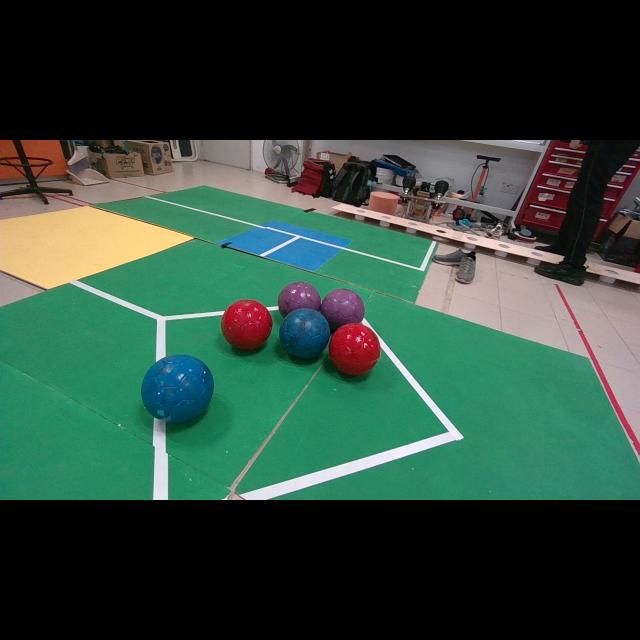B: (141, 355, 214, 422), (280, 309, 330, 359)
P: (320, 290, 364, 331), (278, 281, 320, 318)
R: (329, 322, 381, 376), (221, 299, 272, 351)
